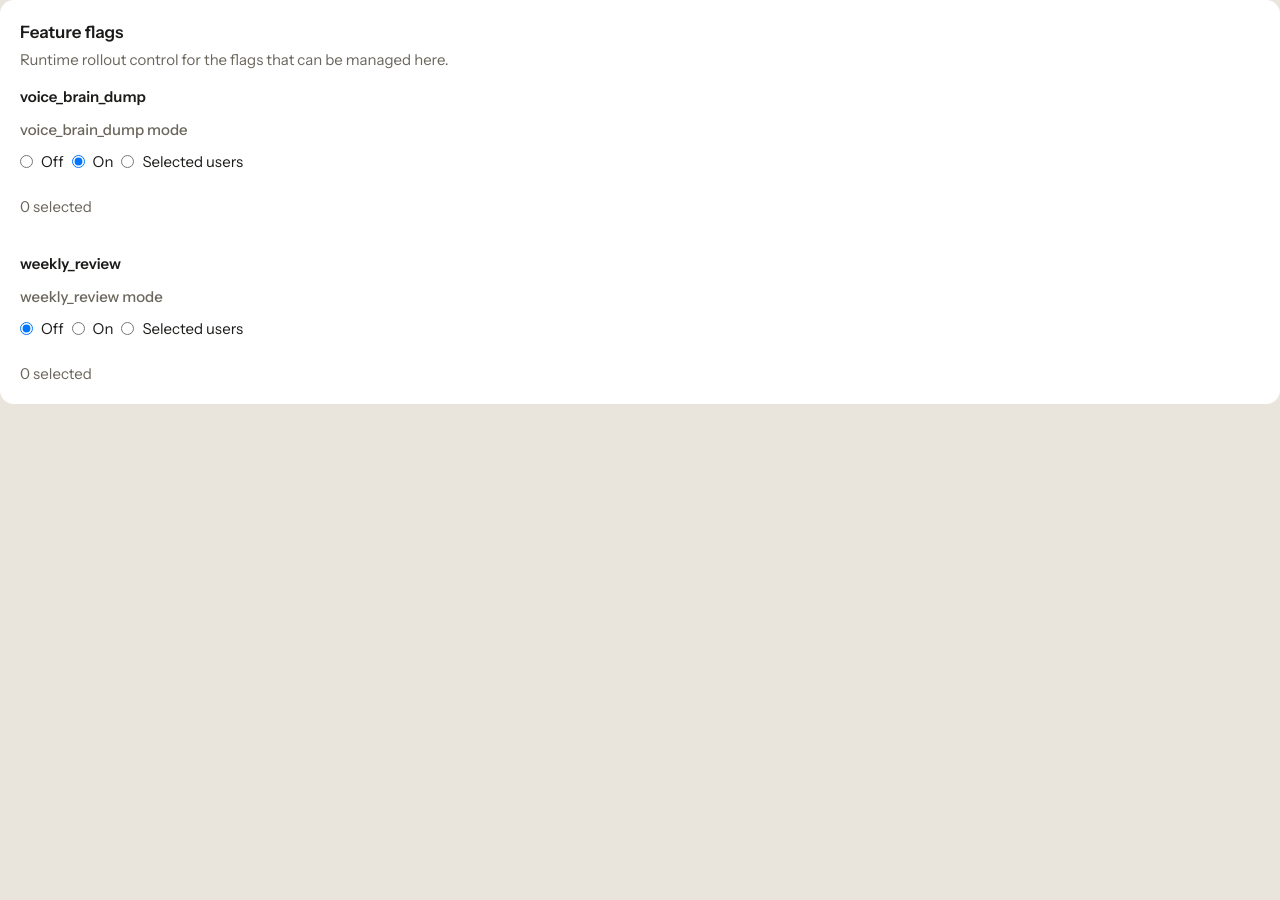
Scenario: AdminFeatureFlagsSection (010-FR-010, design F-01…F-13) › 010-SC-008: F-08a is dismissible by Escape and by Cancel, restoring focus each time
Expected: the element "voice_brain_dump" is shown, [20,87,243,216]
Click the 1st radio button labelled "Off" at (26, 162), box [20,155,33,168]
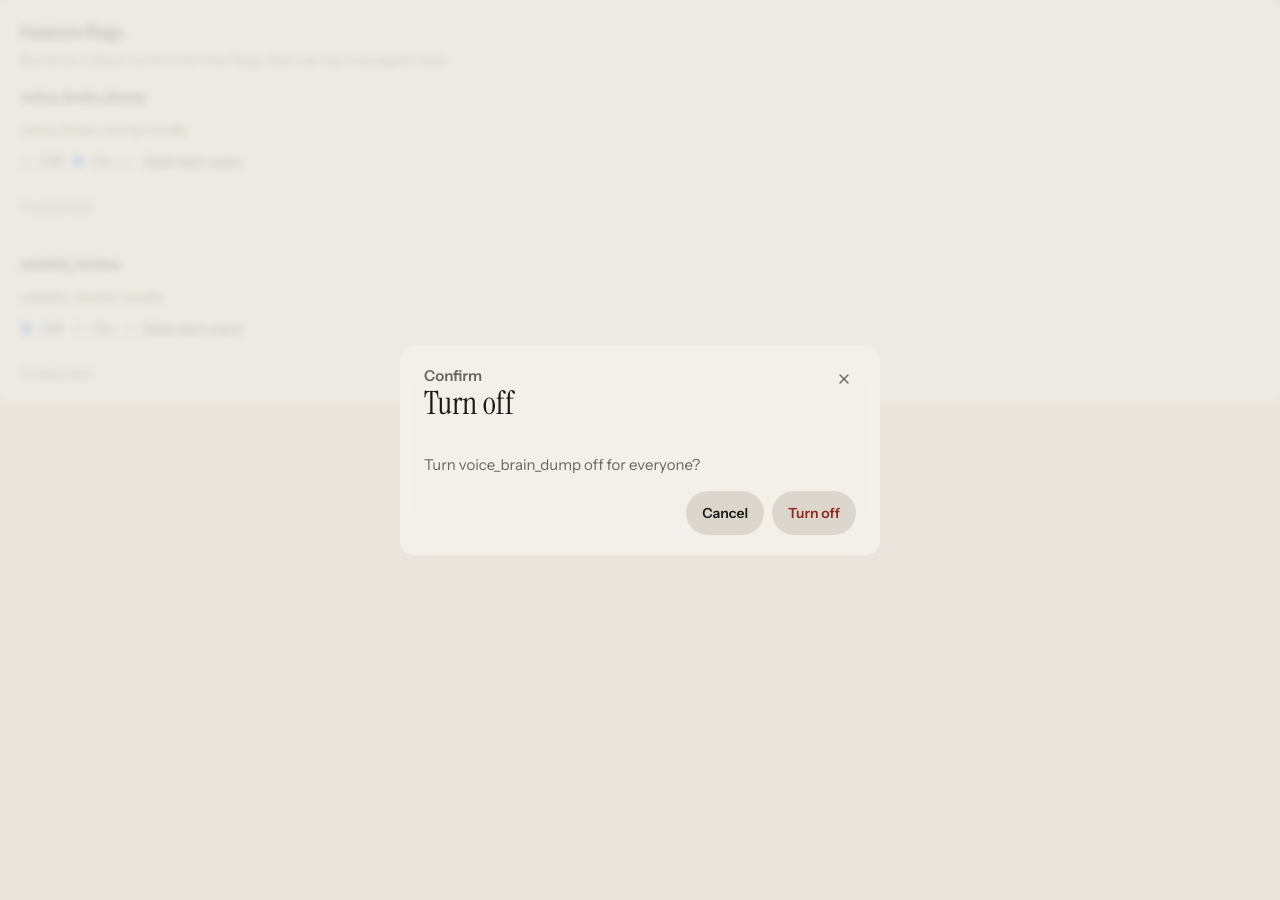
Press Escape
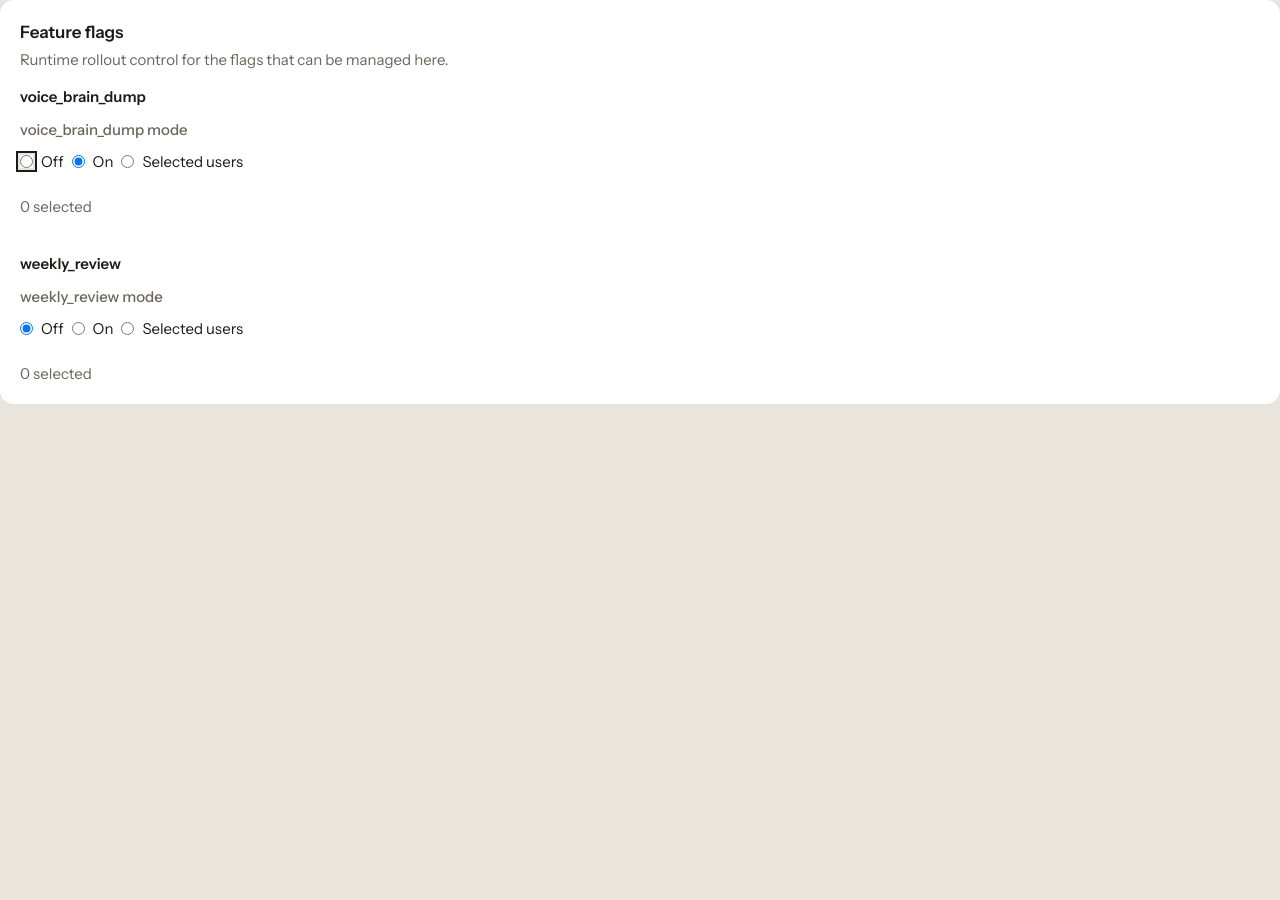
Expected: the dialog is gone
Click the 1st radio button labelled "Off" at (26, 162), box [20,155,33,168]
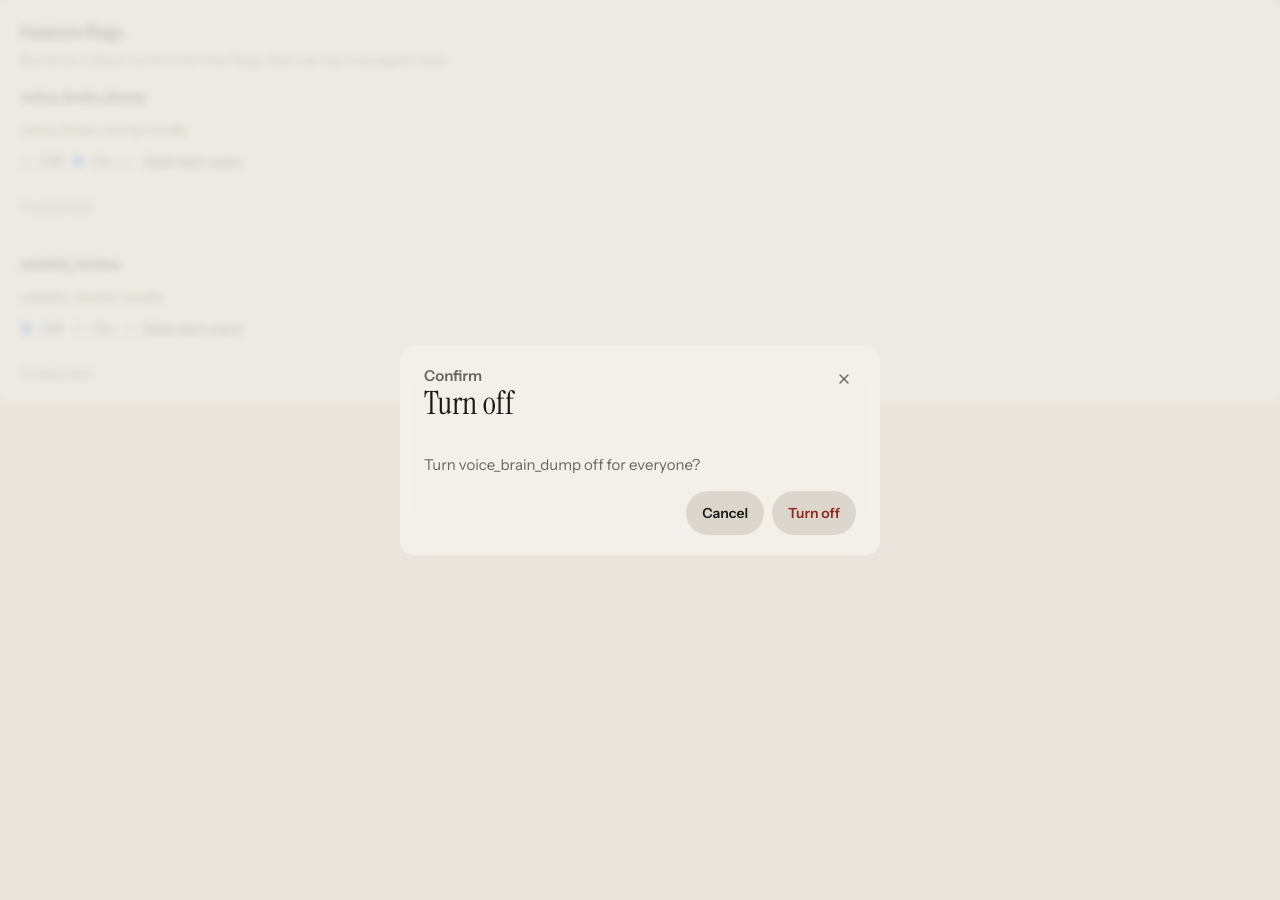
Expected: the dialog is shown, [400,345,880,555]
Click the button "Cancel" at (725, 513), box [686,491,764,535]
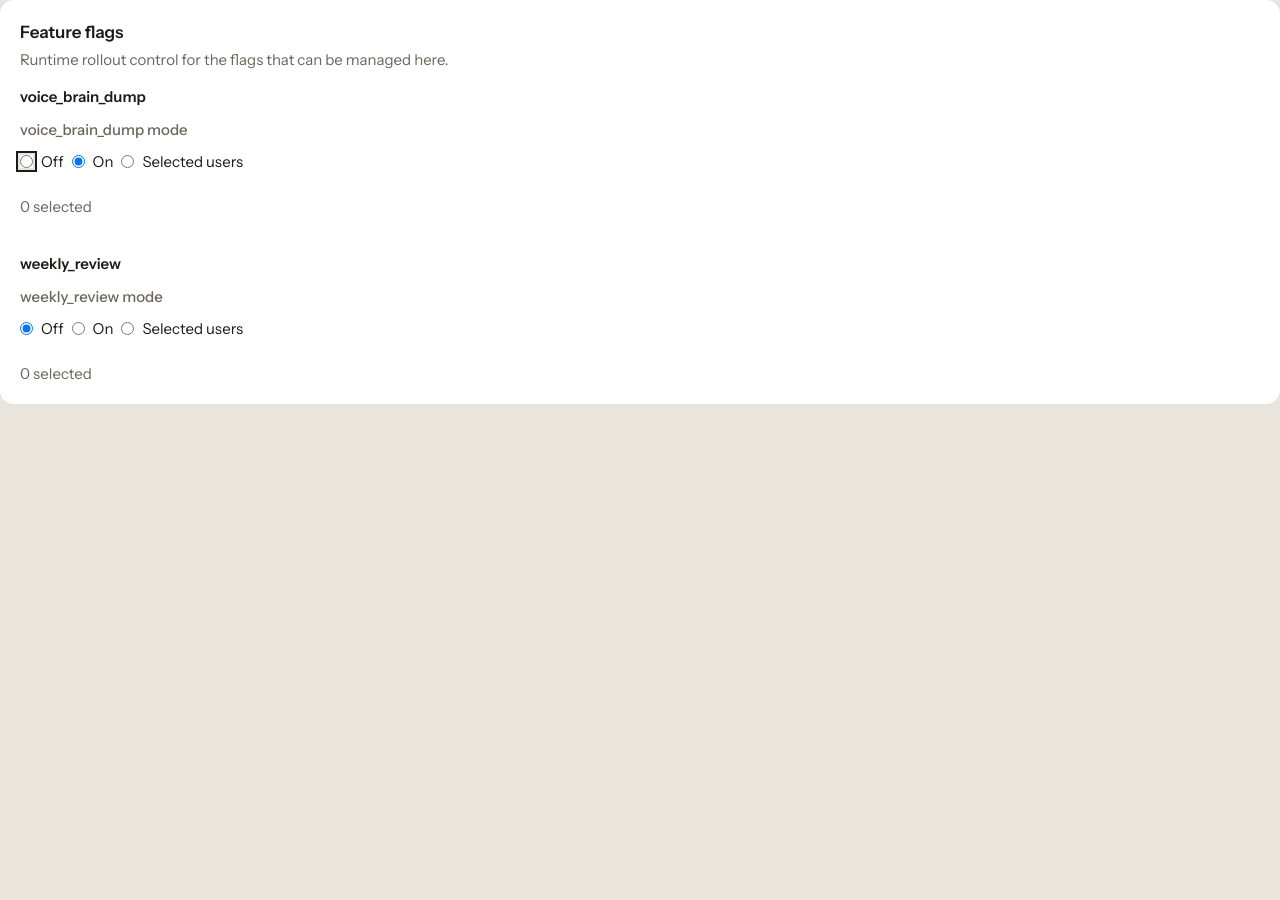
Expected: the dialog is gone
